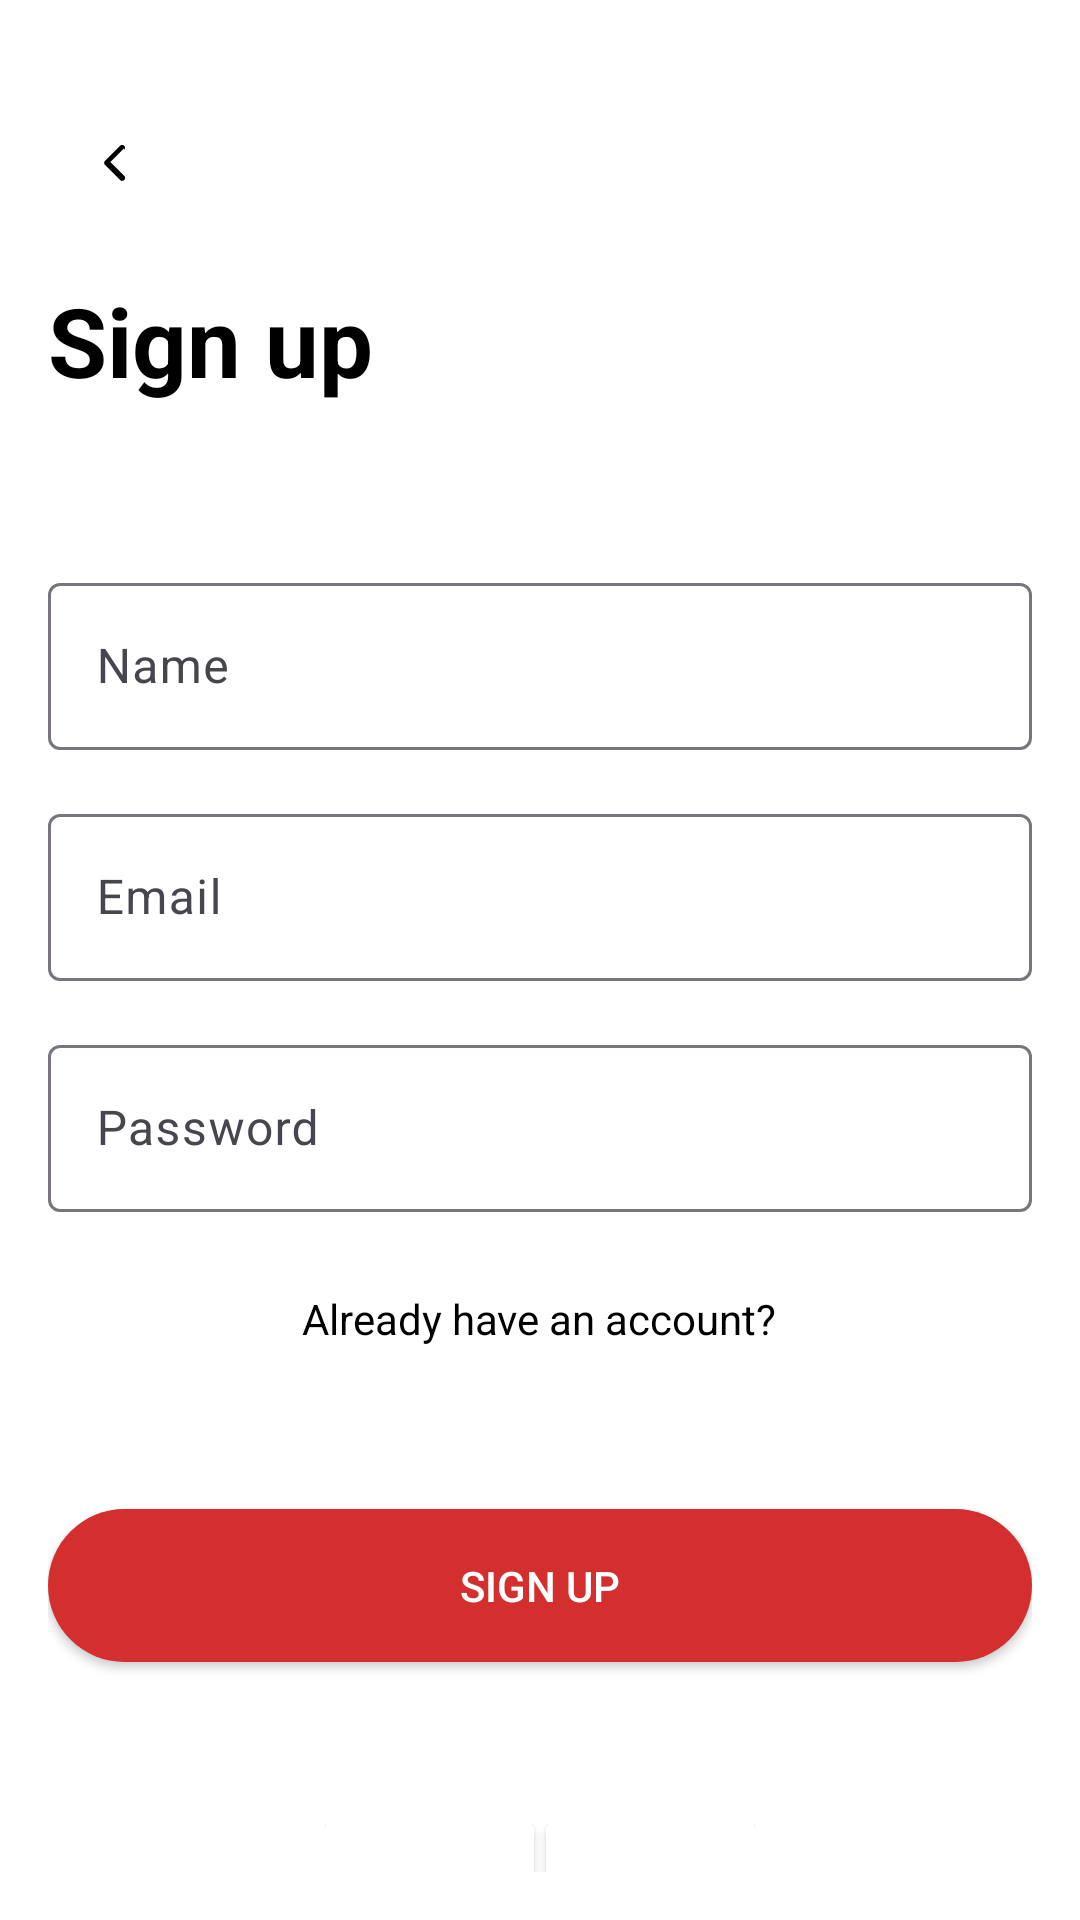

Screen size 1080 × 1920. Icon name, then its box in pixels as bbox(x1, y1, x2, y2):
back arrow: bbox(104, 145, 125, 181)
